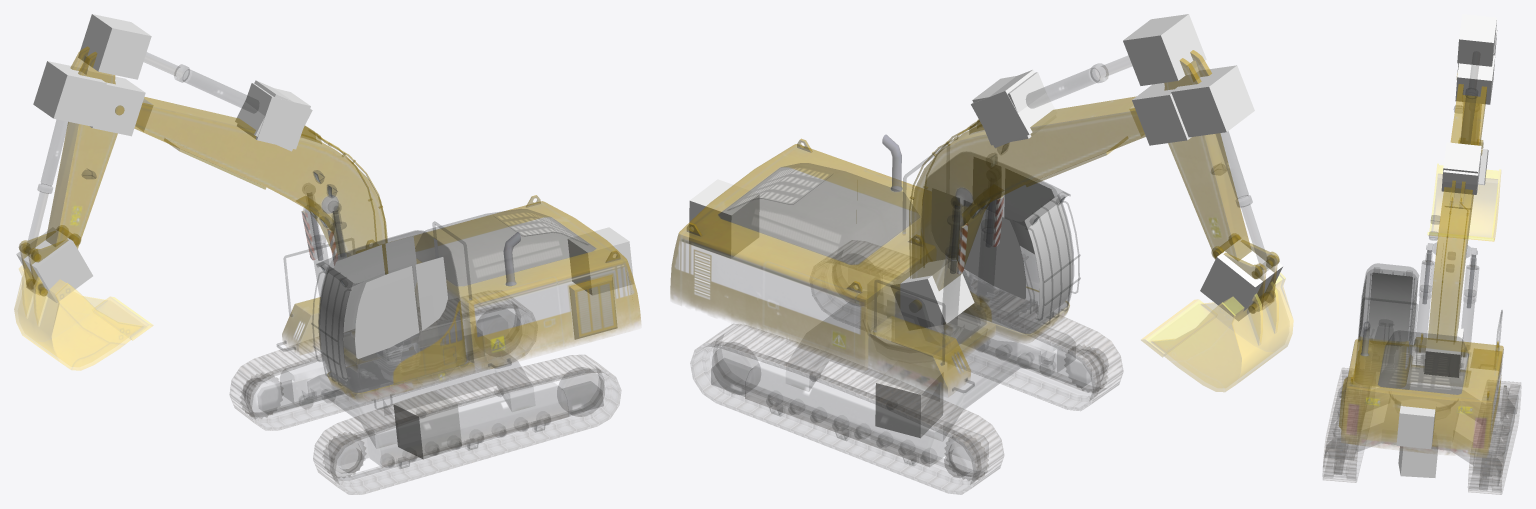
Rendered from excavators2.glb.
The picture shows the model from 3 angles, left to right: view 1: azimuth 30°, elevation 25°; view 2: azimuth 150°, elevation 25°; view 3: azimuth 270°, elevation 25°; orthographic projection. The views are drawn at different scales.
Visible parts, largest first — view 1: body, base, lever1, left_track, ladle, lever2, right_track, excavators__3_, body_back, springhinge2, springhinge3, ladle_hinge (+6 smaller); view 2: body, base, lever1, right_track, ladle, lever2, left_track, body_back, excavators__3_, piston3, springhinge3, springhinge2 (+7 smaller); view 3: body, lever1, ladle, base, right_track, left_track, piston3, springhinge2, lever1_hinge, body_back, lever2_hinge, excavators__3_ (+5 smaller).
Part boxes in pixels (x1=…): body: x1=277, y1=195, x2=640, y2=409; base: x1=240, y1=309, x2=604, y2=477; lever1: x1=115, y1=97, x2=387, y2=273; left_track: x1=313, y1=355, x2=620, y2=494; ladle: x1=14, y1=265, x2=153, y2=370; lever2: x1=18, y1=46, x2=117, y2=296; right_track: x1=230, y1=298, x2=534, y2=430; excavators__3_: x1=393, y1=391, x2=461, y2=459; body_back: x1=567, y1=227, x2=633, y2=295; springhinge2: x1=78, y1=14, x2=151, y2=79; springhinge3: x1=33, y1=61, x2=106, y2=126; ladle_hinge: x1=16, y1=227, x2=92, y2=302; body: x1=670, y1=134, x2=1080, y2=396; base: x1=711, y1=262, x2=1107, y2=480; lever1: x1=909, y1=96, x2=1145, y2=310; right_track: x1=690, y1=324, x2=1003, y2=494; ladle: x1=1141, y1=272, x2=1293, y2=392; lever2: x1=1164, y1=50, x2=1279, y2=313; left_track: x1=812, y1=240, x2=1123, y2=410; body_back: x1=689, y1=179, x2=759, y2=258; excavators__3_: x1=875, y1=360, x2=943, y2=438; piston3: x1=941, y1=177, x2=1003, y2=335; springhinge3: x1=1171, y1=65, x2=1254, y2=137; springhinge2: x1=1123, y1=14, x2=1206, y2=85; body: x1=1338, y1=263, x2=1503, y2=457; lever1: x1=1416, y1=73, x2=1486, y2=356; ladle: x1=1427, y1=163, x2=1501, y2=241; base: x1=1323, y1=377, x2=1518, y2=490; right_track: x1=1468, y1=381, x2=1520, y2=494; left_track: x1=1323, y1=368, x2=1370, y2=482; piston3: x1=1416, y1=243, x2=1478, y2=356; springhinge2: x1=1457, y1=14, x2=1496, y2=66; lever1_hinge: x1=1424, y1=325, x2=1463, y2=377; body_back: x1=1396, y1=400, x2=1436, y2=449; lever2_hinge: x1=1455, y1=55, x2=1495, y2=104; excavators__3_: x1=1398, y1=433, x2=1438, y2=477.
Size of the model in its own units: 58.99 by 47.01 by 24.01.
6 materials, 4 textured.
